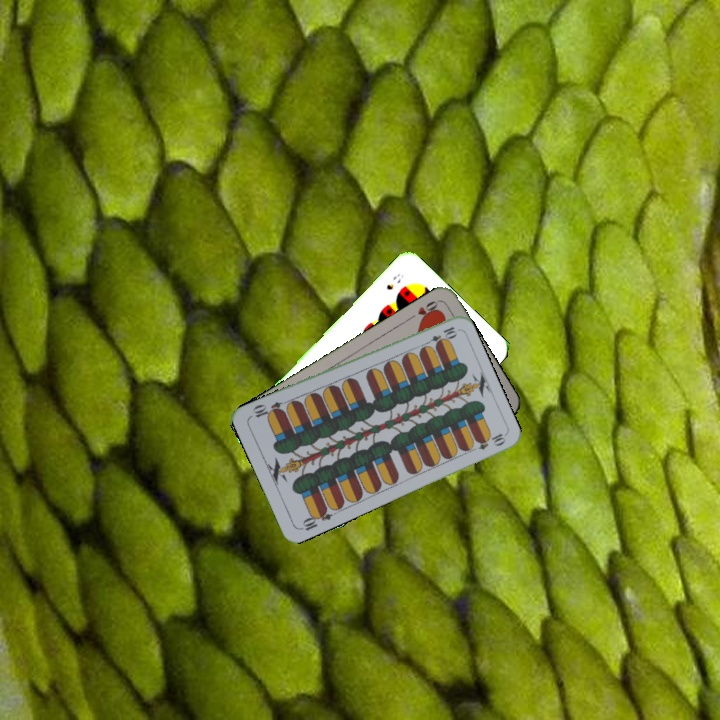E10: (296, 504, 335, 533), (420, 322, 459, 349)
HO: (404, 296, 441, 324)
S8: (382, 269, 406, 292)
